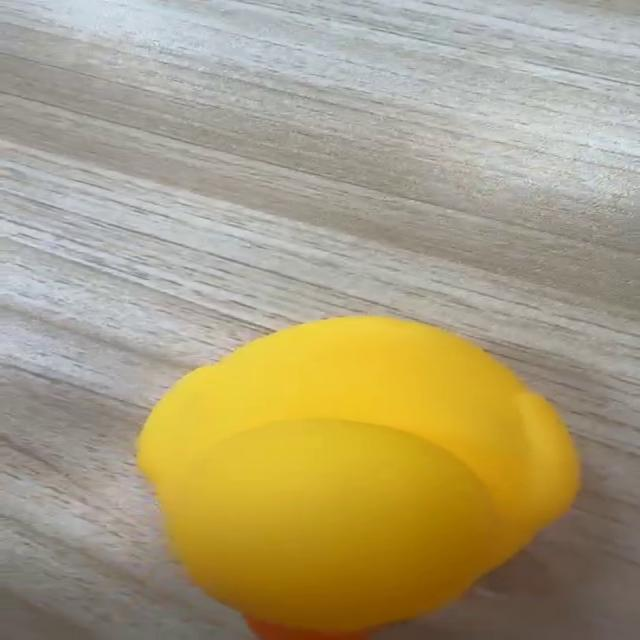yellow_duck: (133, 314, 582, 638)
